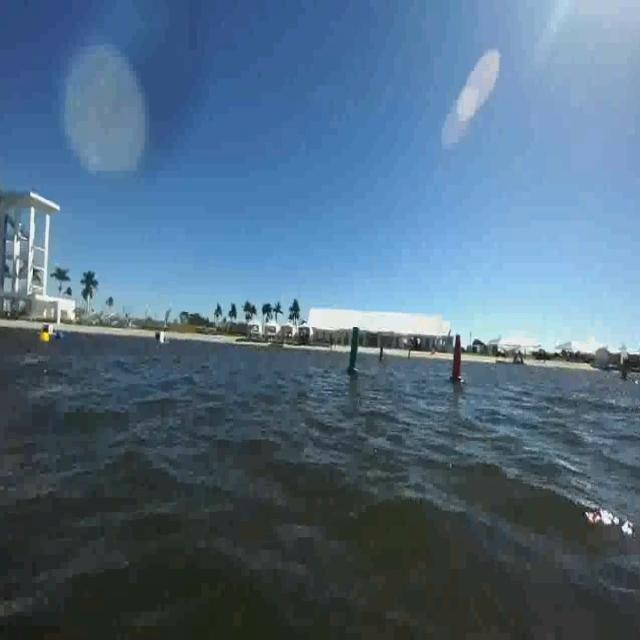green-column-buoy: (347, 324, 362, 375)
red-column-buoy: (450, 334, 466, 382)
yellow-buoy: (40, 331, 51, 346)
